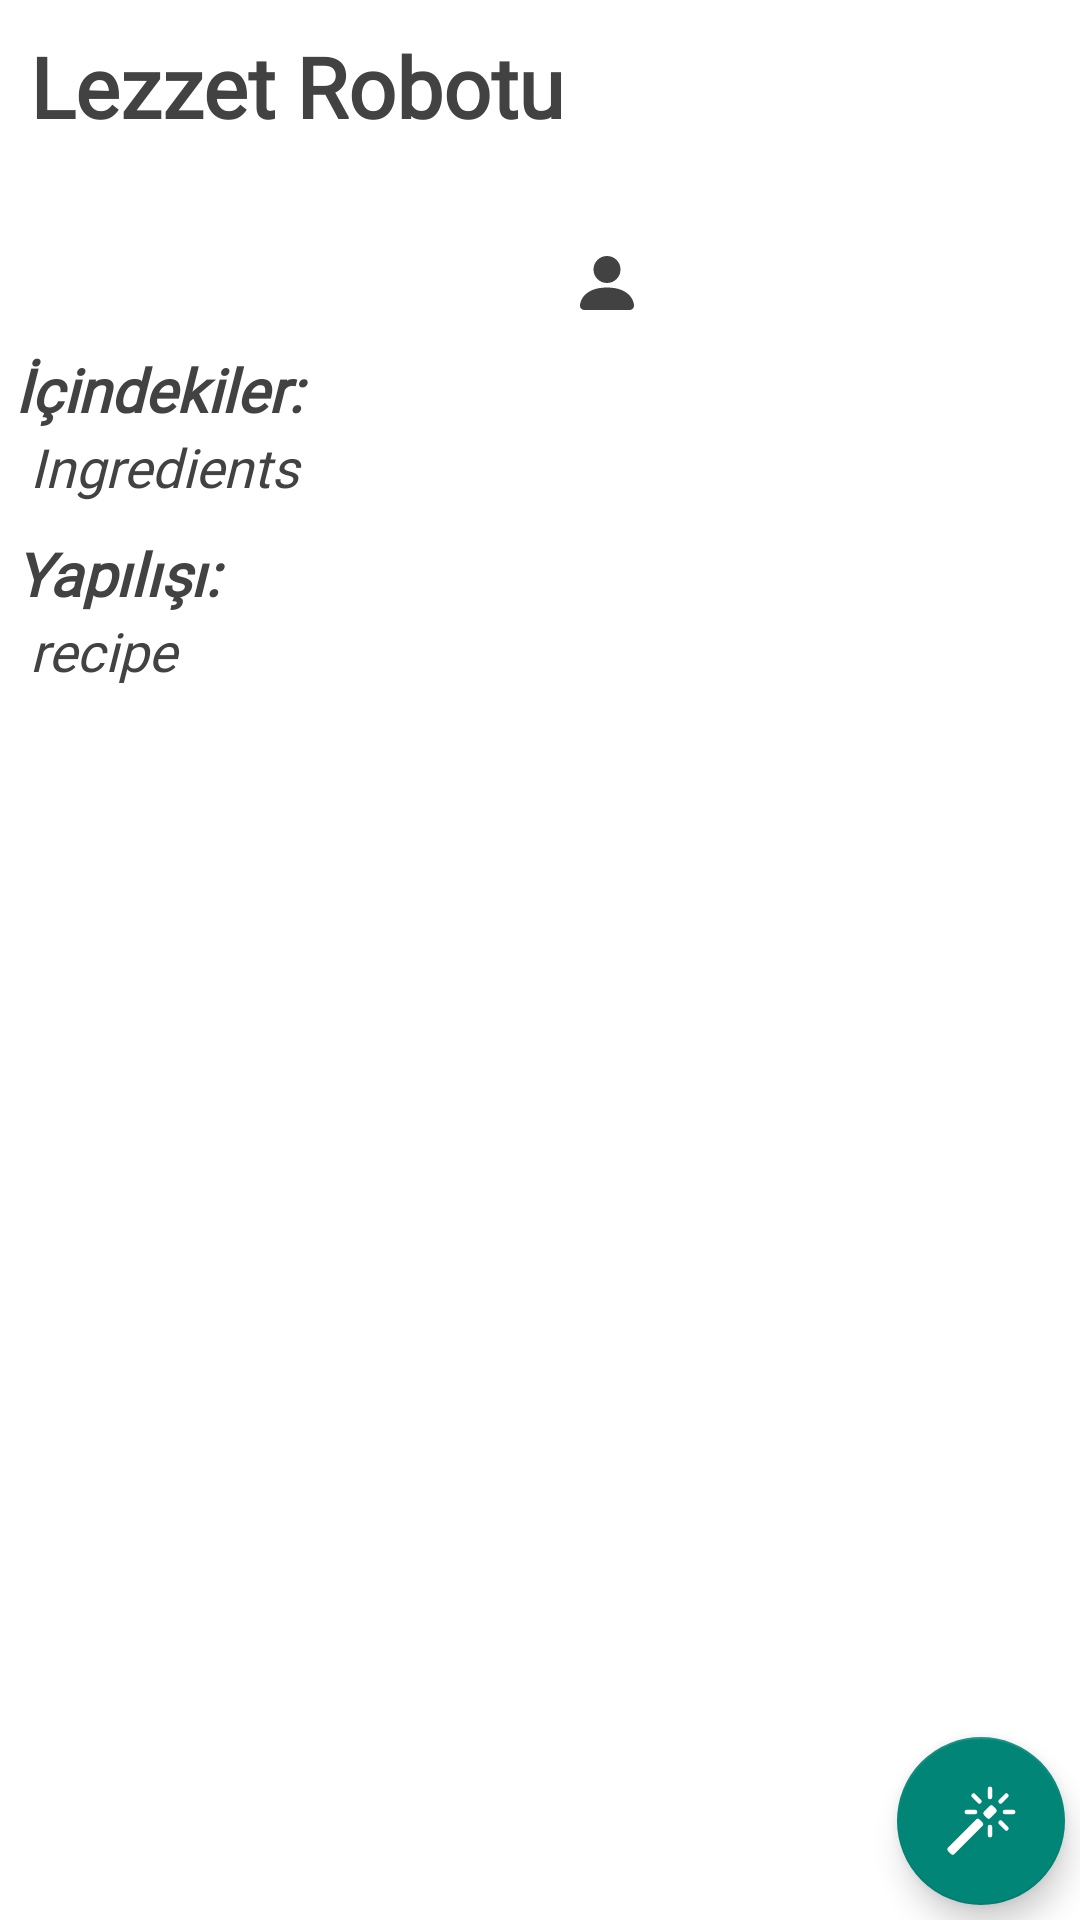

Where to tap for icons on this 1080w x 1920h app screen, as point (x, y):
magic: point (981, 1821)
person: point (607, 283)
